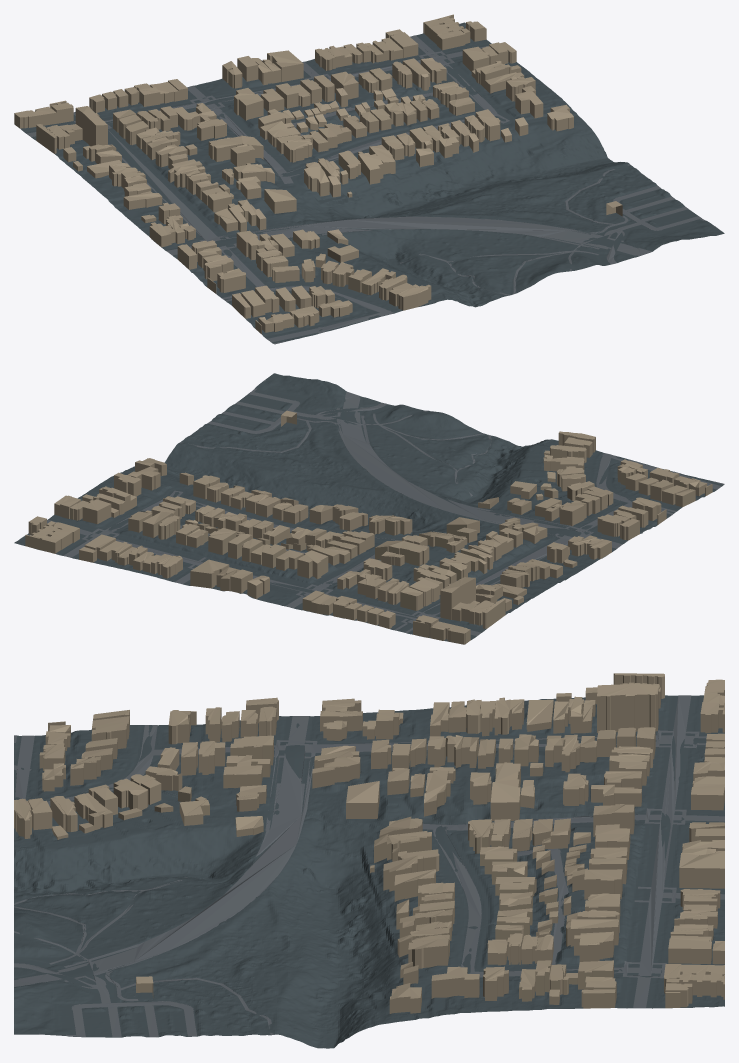
Rendered from epsg26910-1420-10891.lod0.glb.
3 views of the same model, one above another, from view 1: azimuth 30°, elevation 25°; view 2: azimuth 150°, elevation 25°; view 3: azimuth 270°, elevation 25° (orthographic). The views are drawn at different scales.
Parts seen in each view (by area): view 1: epsg26910-1420-10891-lod0; view 2: epsg26910-1420-10891-lod0; view 3: epsg26910-1420-10891-lod0.
Boxes of the visible parts, bbox=[...] form: epsg26910-1420-10891-lod0: bbox=[14, 14, 724, 344]; epsg26910-1420-10891-lod0: bbox=[14, 373, 724, 644]; epsg26910-1420-10891-lod0: bbox=[14, 673, 724, 1048].
Size of the model in its own units: 384 by 55.88 by 384.
